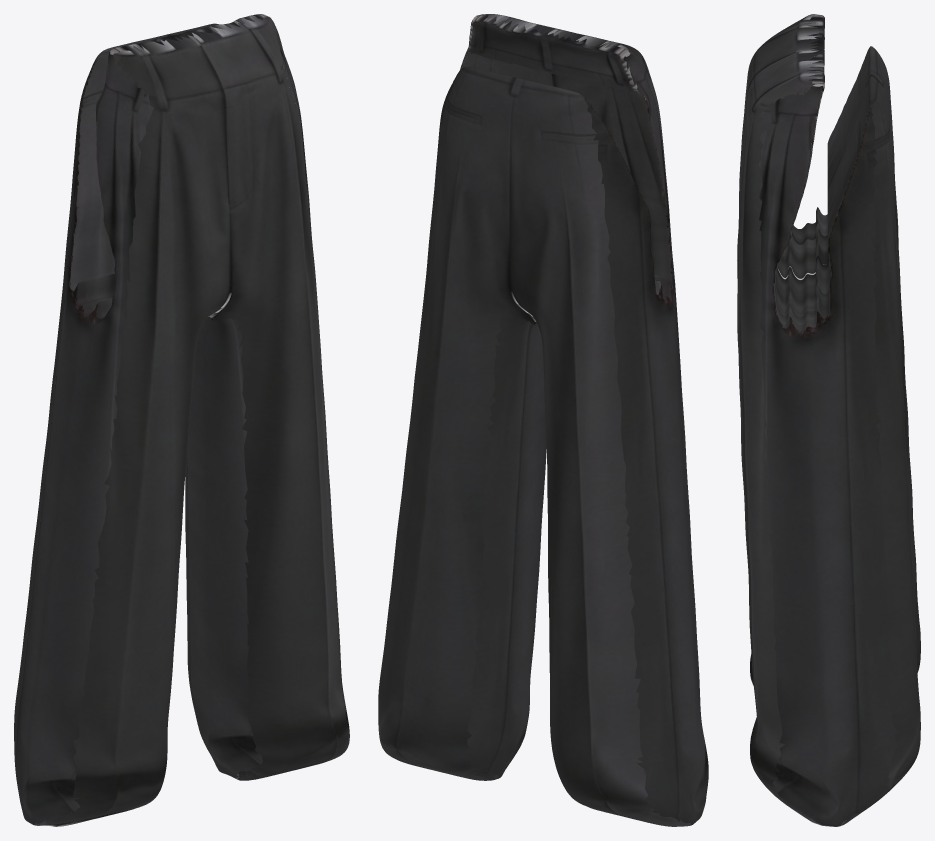
The model's file is NF004-photo-v4.glb.
The picture shows the model from 3 angles, left to right: view 1: azimuth 30°, elevation 25°; view 2: azimuth 150°, elevation 25°; view 3: azimuth 270°, elevation 25°; orthographic projection. The views are drawn at different scales.
Parts seen in each view (by area): view 1: NF004_worn_photo_fitted; view 2: NF004_worn_photo_fitted; view 3: NF004_worn_photo_fitted.
Boxes of the visible parts, bbox=[...] form: NF004_worn_photo_fitted: bbox=[14, 14, 349, 826]; NF004_worn_photo_fitted: bbox=[378, 14, 708, 826]; NF004_worn_photo_fitted: bbox=[737, 14, 920, 826].
Size of the model in its own units: 0.4846 by 1.11 by 0.2587.
Materials: 3 (3 with a texture image).
